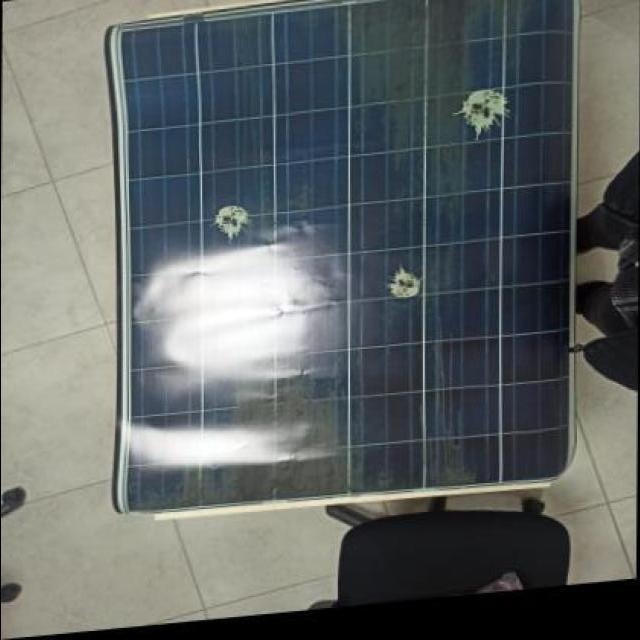soiled: (102, 4, 584, 520)
